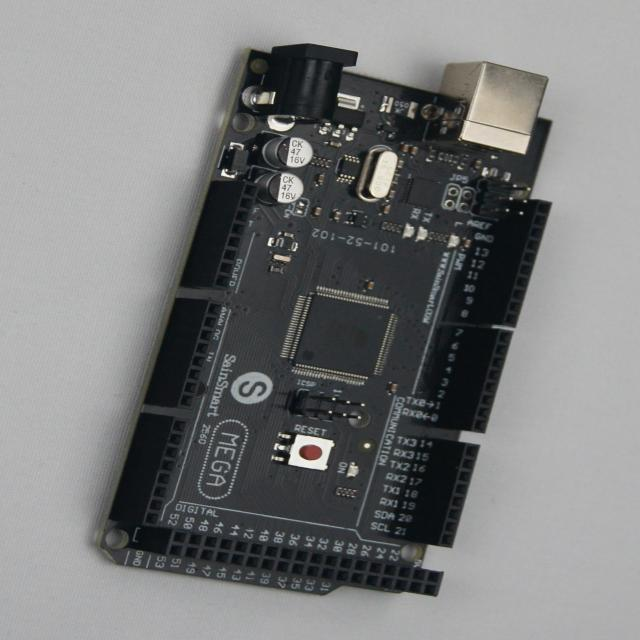Arduino Mega 2560 -Black-: (98, 44, 551, 596)
